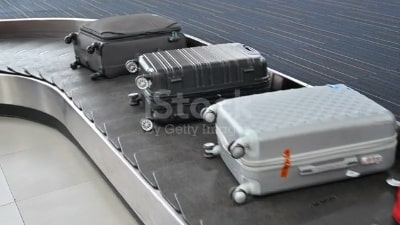baggage: (195, 83, 400, 206), (121, 41, 272, 132), (62, 11, 187, 83)
